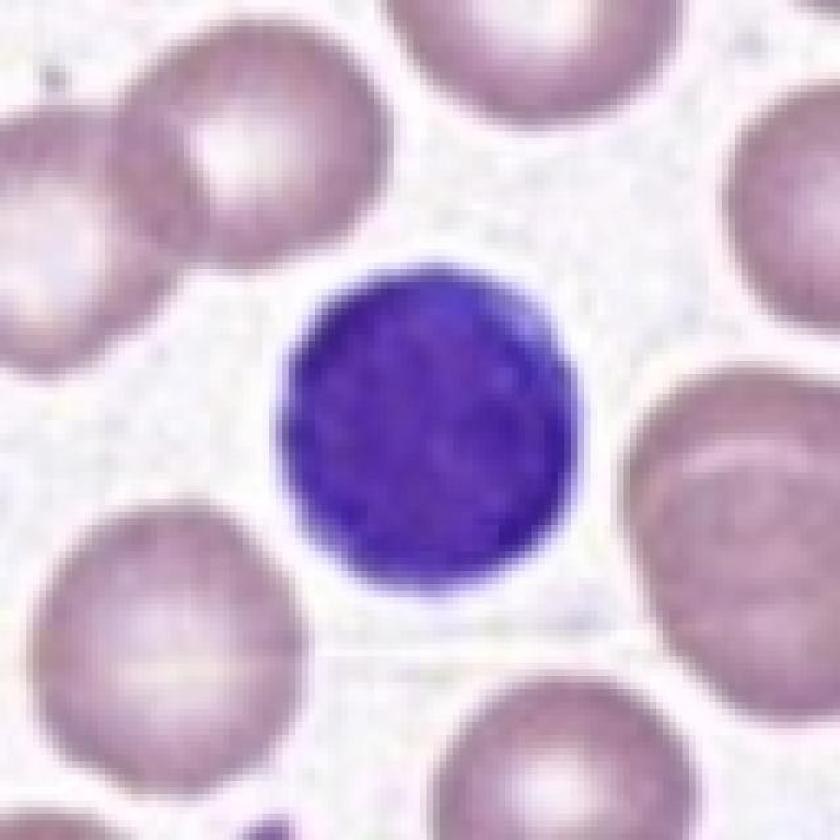lymphocyte: (274, 252, 594, 604)
